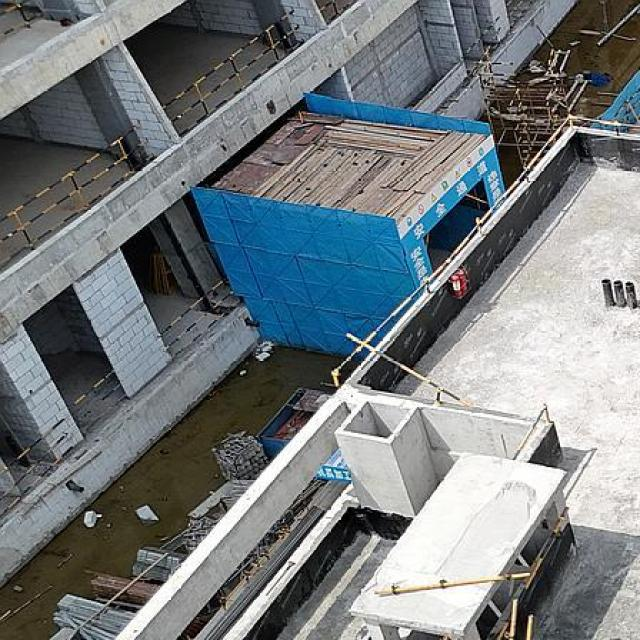edge_guardrail: (330, 114, 640, 396), (0, 126, 154, 274), (162, 9, 307, 137), (491, 504, 569, 640), (344, 333, 470, 408), (0, 416, 74, 532), (159, 277, 241, 362), (73, 368, 127, 432), (510, 402, 550, 461), (463, 15, 501, 74), (0, 0, 36, 39), (505, 0, 534, 29), (319, 0, 353, 24)
